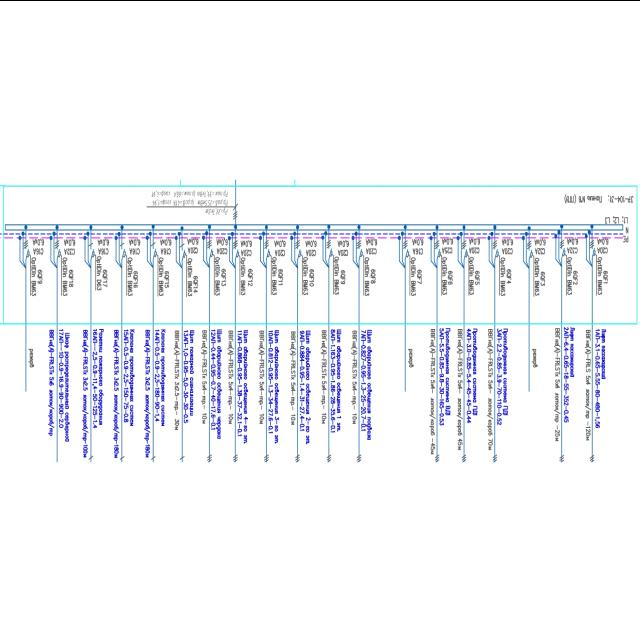-: (609, 192, 634, 206), (270, 253, 278, 296), (595, 254, 603, 296), (95, 252, 102, 294), (97, 237, 111, 255), (186, 256, 192, 298), (126, 256, 132, 298), (62, 256, 68, 298), (364, 237, 378, 255), (566, 237, 580, 255), (128, 237, 142, 255), (336, 238, 350, 256), (441, 254, 447, 296), (500, 254, 506, 296), (468, 255, 474, 297), (274, 238, 288, 256), (534, 254, 540, 296), (333, 254, 339, 296), (214, 254, 220, 296), (186, 236, 200, 254), (302, 254, 308, 296), (304, 239, 318, 257), (566, 255, 572, 297), (216, 237, 230, 255), (158, 254, 164, 296), (410, 256, 416, 298), (534, 237, 548, 254), (596, 237, 610, 254), (412, 237, 426, 254), (468, 237, 482, 254), (63, 237, 77, 254), (32, 237, 46, 254), (440, 237, 454, 254), (501, 237, 515, 254), (159, 237, 173, 254), (240, 237, 253, 255), (31, 255, 36, 298), (240, 254, 245, 296), (364, 254, 369, 296)
QF: (233, 246, 240, 260), (436, 244, 442, 260), (55, 244, 61, 260), (590, 243, 596, 258), (528, 245, 534, 260), (462, 245, 468, 260), (296, 245, 302, 260), (264, 245, 270, 260), (208, 244, 214, 259), (24, 246, 30, 261), (560, 244, 566, 258), (90, 245, 96, 259), (120, 245, 126, 259), (151, 245, 157, 259), (180, 246, 186, 260), (357, 244, 363, 258), (494, 244, 499, 260), (404, 244, 409, 260), (327, 244, 332, 260)
